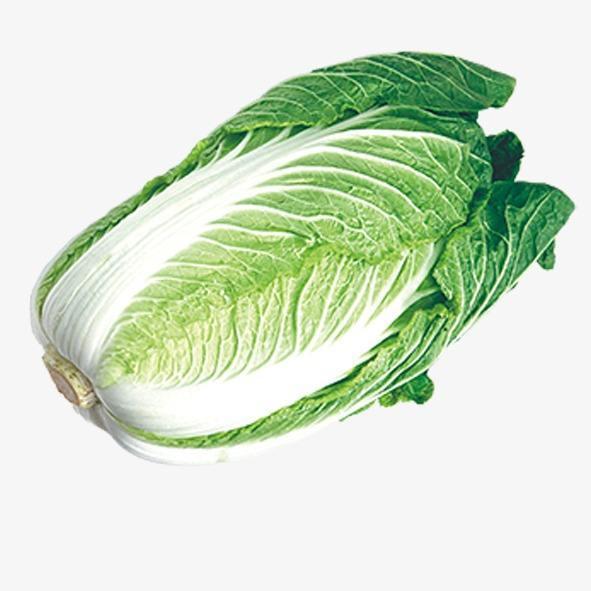baicai: (27, 51, 575, 469)
